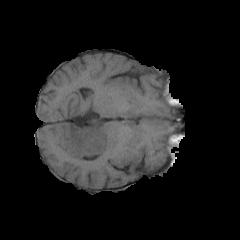glioma: (65, 101, 109, 161)
